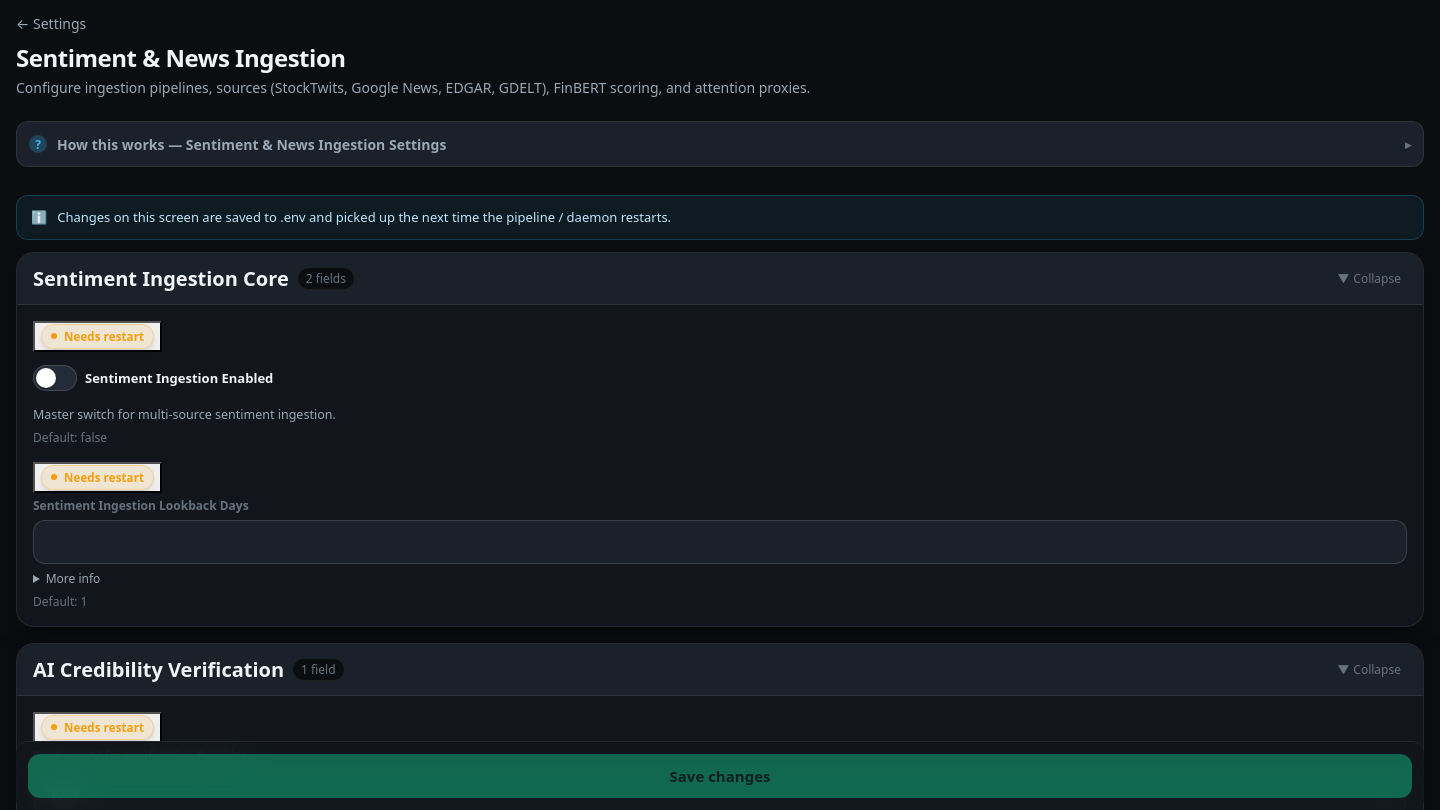
Scenario: SentimentSettings screen › surfaces per-key rejected reasons from the backend and keeps the key dirty
Type "5" into the number field labelled "Sentiment Ingestion Lookback Days". click: (720, 542)
box: [33, 520, 1407, 564]
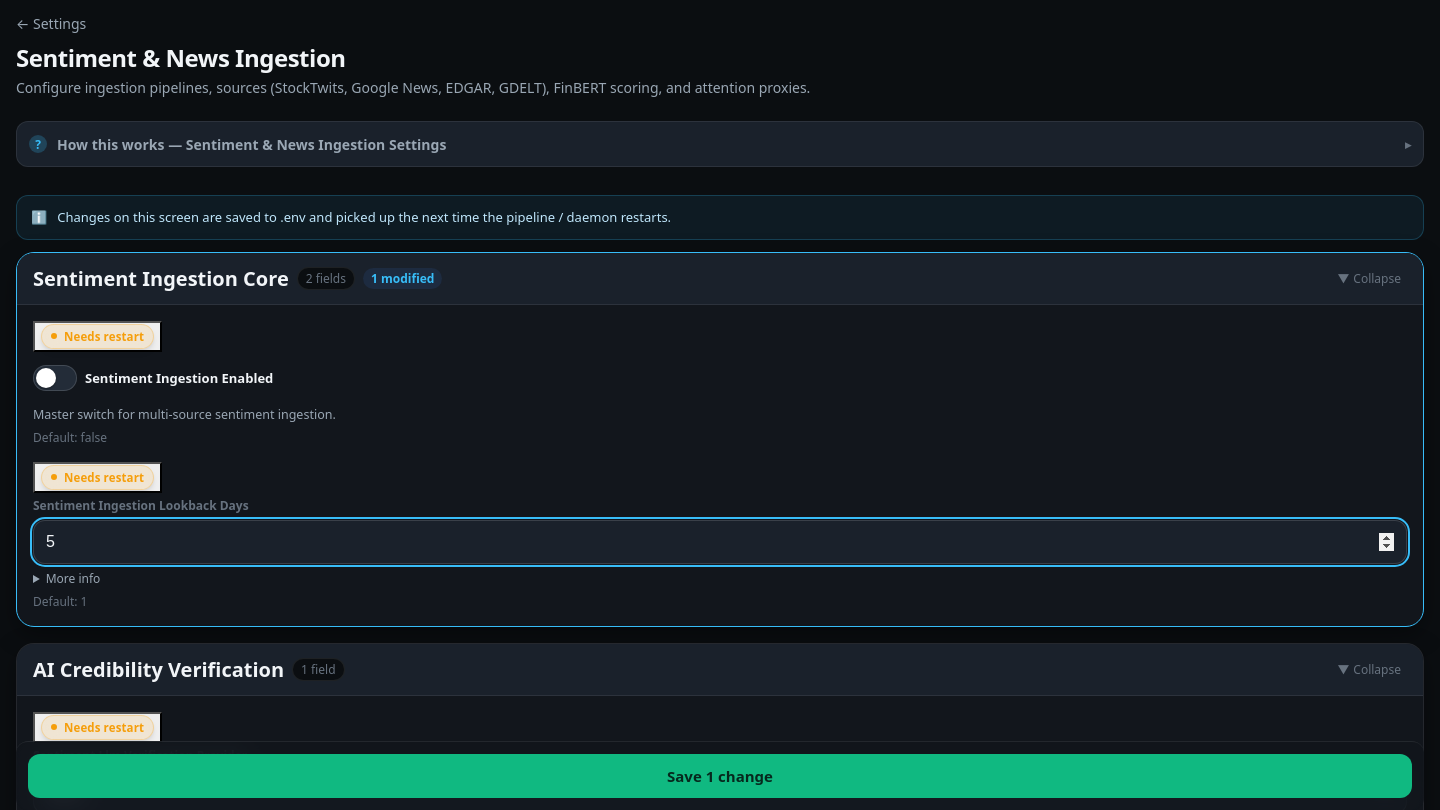
Click the button "Save 1 change". click: (720, 776)
box: [28, 754, 1412, 798]
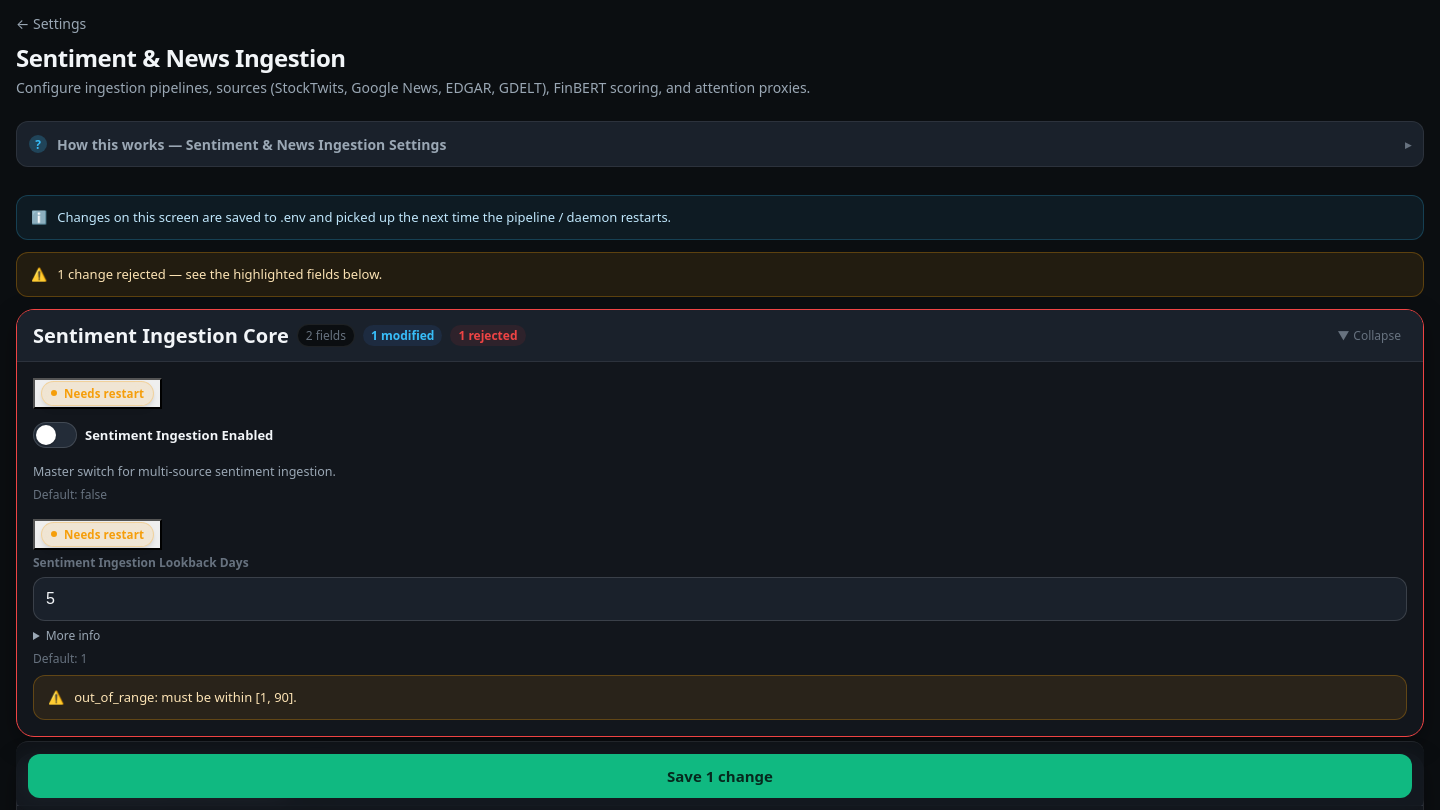
Result: the button "Save 1 change" is enabled at [28, 754, 1412, 798]
Result: the message with test id "rejected-Sentiment Ingestion Lookback Days" shows "out_of_range" at [74, 688, 297, 706]
